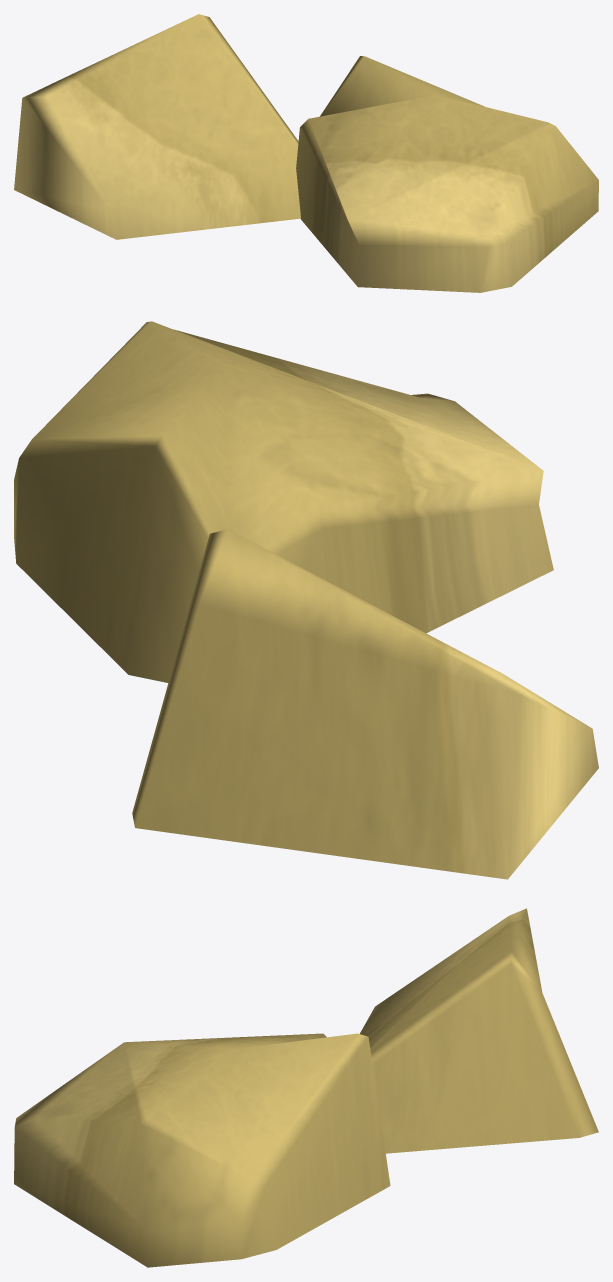
File: rocks.fbx
3 renders of one model, top to bottom at view 1: azimuth 30°, elevation 25°; view 2: azimuth 150°, elevation 25°; view 3: azimuth 270°, elevation 25°, orthographic. The views are drawn at different scales.
Parts seen in each view (by area): view 1: pCube166; view 2: pCube166; view 3: pCube166.
Boxes of the visible parts, x1,y1,x2,y2 form: pCube166: (14,14,598,292); pCube166: (14,321,598,879); pCube166: (14,908,598,1267).
Bounding box in the file's own units: 0.0828 × 0.0276 × 0.0844.
